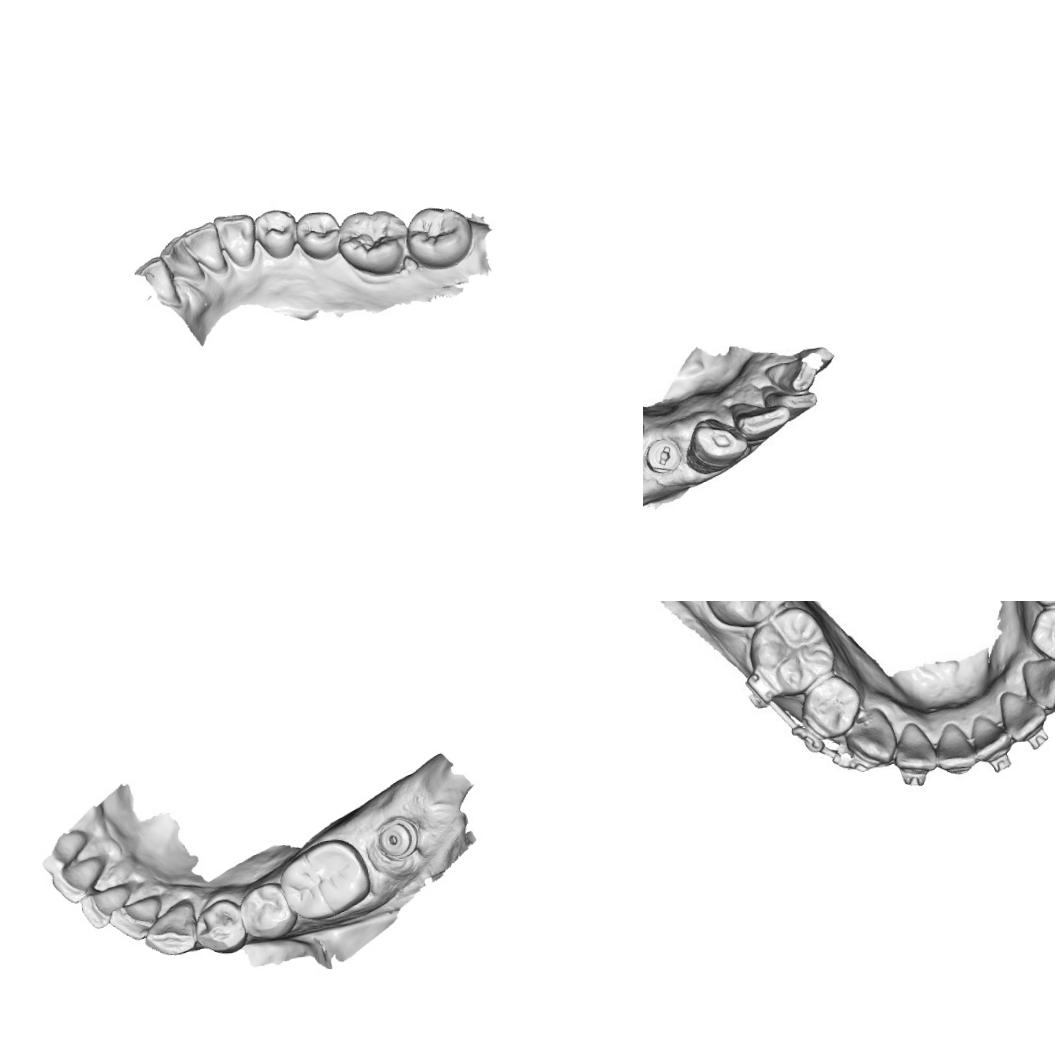canine: (690, 414, 748, 472), (142, 898, 196, 958), (209, 212, 258, 272), (843, 710, 897, 761), (1022, 655, 1055, 705)
implant: (373, 812, 420, 860)
implant_minus: (643, 432, 688, 482)
incisor: (76, 876, 137, 932), (130, 252, 182, 311), (48, 854, 109, 904), (178, 220, 228, 277), (761, 350, 820, 395), (886, 719, 938, 770), (728, 397, 786, 442), (107, 893, 161, 941), (158, 233, 207, 285), (999, 689, 1046, 739), (933, 724, 979, 774), (765, 382, 817, 418), (972, 714, 1012, 759)
molar: (273, 836, 372, 922), (751, 608, 833, 691), (336, 204, 410, 278), (404, 202, 475, 272), (710, 601, 788, 626)
premolar: (804, 674, 860, 734), (240, 880, 294, 940), (194, 898, 246, 955), (252, 206, 304, 262), (291, 207, 342, 263), (1029, 606, 1055, 658)
